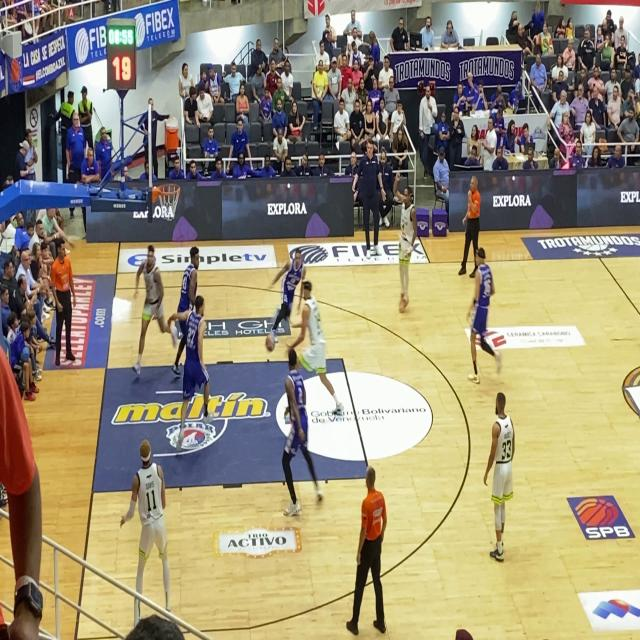Ball: (264, 329, 276, 357)
referee: (340, 450, 391, 640), (46, 230, 82, 374), (455, 170, 485, 286)
team1: (116, 427, 176, 623), (291, 274, 341, 434), (478, 370, 517, 571), (130, 239, 174, 386), (391, 177, 419, 335)
team2: (272, 350, 326, 528), (176, 282, 216, 464), (461, 242, 507, 382), (272, 242, 306, 364), (176, 221, 204, 311)
ubasket: (156, 179, 183, 222)
